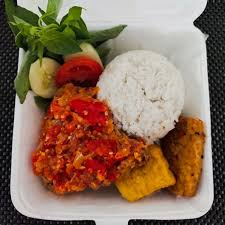ayam_geprek: (30, 79, 149, 194)
